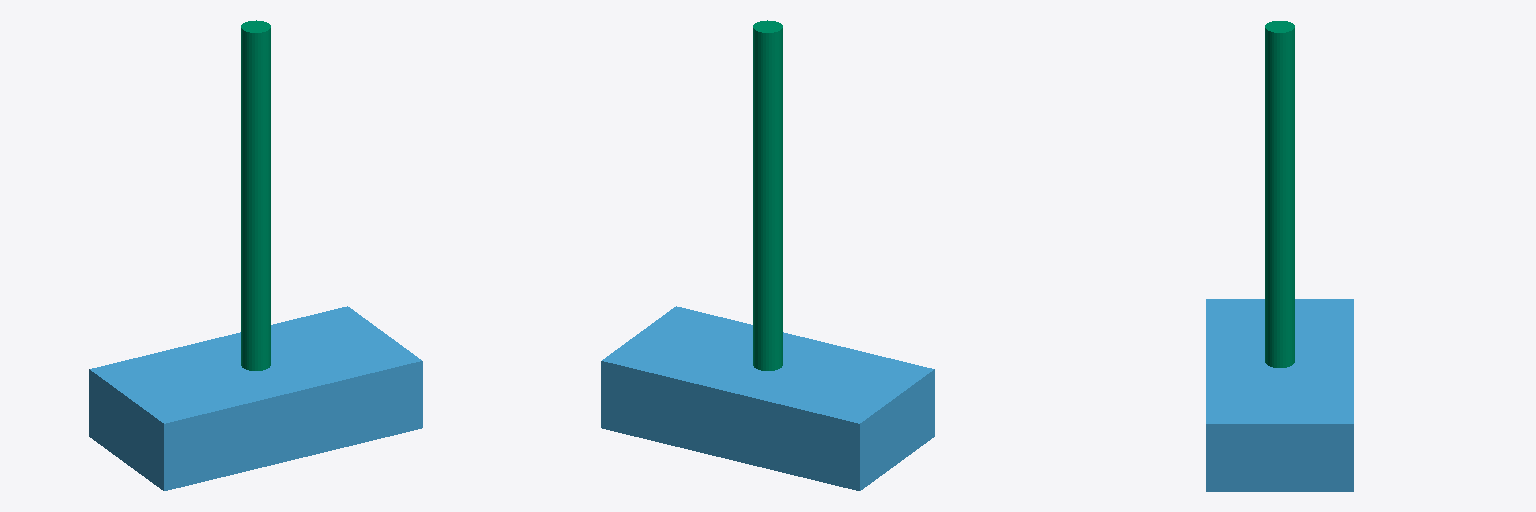
The robot description file, URDF, robot "cart_pole":
<?xml version="1.0" encoding="utf-8"?>
<!-- Simple cart-pole (inverted pendulum) for simforge sample assets -->
<robot name="cart_pole">

  <!-- Fixed world link -->
  <link name="world"/>

  <!-- Cart: slides along the x-axis -->
  <link name="cart">
    <visual>
      <geometry>
        <box size="0.4 0.2 0.1"/>
      </geometry>
    </visual>
    <collision>
      <geometry>
        <box size="0.4 0.2 0.1"/>
      </geometry>
    </collision>
    <inertial>
      <mass value="1.0"/>
      <inertia ixx="0.0043" ixy="0" ixz="0"
               iyy="0.0141" iyz="0"
               izz="0.0167"/>
    </inertial>
  </link>

  <joint name="slider" type="prismatic">
    <parent link="world"/>
    <child link="cart"/>
    <axis xyz="1 0 0"/>
    <limit lower="-2.4" upper="2.4" effort="100" velocity="10"/>
  </joint>

  <!-- Pole: hinged on top of the cart -->
  <link name="pole">
    <visual>
      <origin xyz="0 0 0.25"/>
      <geometry>
        <cylinder radius="0.02" length="0.5"/>
      </geometry>
    </visual>
    <collision>
      <origin xyz="0 0 0.25"/>
      <geometry>
        <cylinder radius="0.02" length="0.5"/>
      </geometry>
    </collision>
    <inertial>
      <origin xyz="0 0 0.25"/>
      <mass value="0.1"/>
      <inertia ixx="0.0021" ixy="0" ixz="0"
               iyy="0.0021" iyz="0"
               izz="0.000004"/>
    </inertial>
  </link>

  <joint name="hinge" type="revolute">
    <parent link="cart"/>
    <child link="pole"/>
    <origin xyz="0 0 0.05"/>
    <axis xyz="0 1 0"/>
    <limit lower="-1.57" upper="1.57" effort="0" velocity="100"/>
  </joint>

</robot>

--- What the picture shows (computed from the rendered views, not written in the file) ---
Views: 3 orthographic renders of the robot side by side, from view 1: azimuth 30°, elevation 25°; view 2: azimuth 150°, elevation 25°; view 3: azimuth 270°, elevation 25°.
Robot: cart_pole — 3 links, 2 joints (1 revolute, 1 prismatic); root link world; default pose: every joint at zero.
Links seen in each view (by area): view 1: cart, pole; view 2: cart, pole; view 3: cart, pole.
Link boxes in pixels (<box>): cart: <box>89,306,422,490</box>; pole: <box>241,20,270,370</box>; cart: <box>601,306,934,490</box>; pole: <box>753,20,782,370</box>; cart: <box>1206,299,1353,491</box>; pole: <box>1265,21,1294,367</box>.
Size in the robot's own frame: 0.4 by 0.2 by 0.6 metres.
Geometry: primitives only (box / cylinder / sphere), no mesh files.